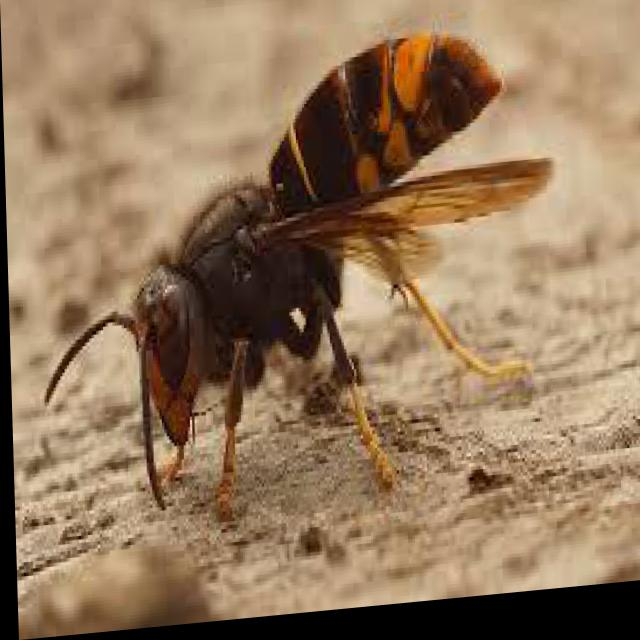Vespa Velutina: (27, 20, 568, 553)
